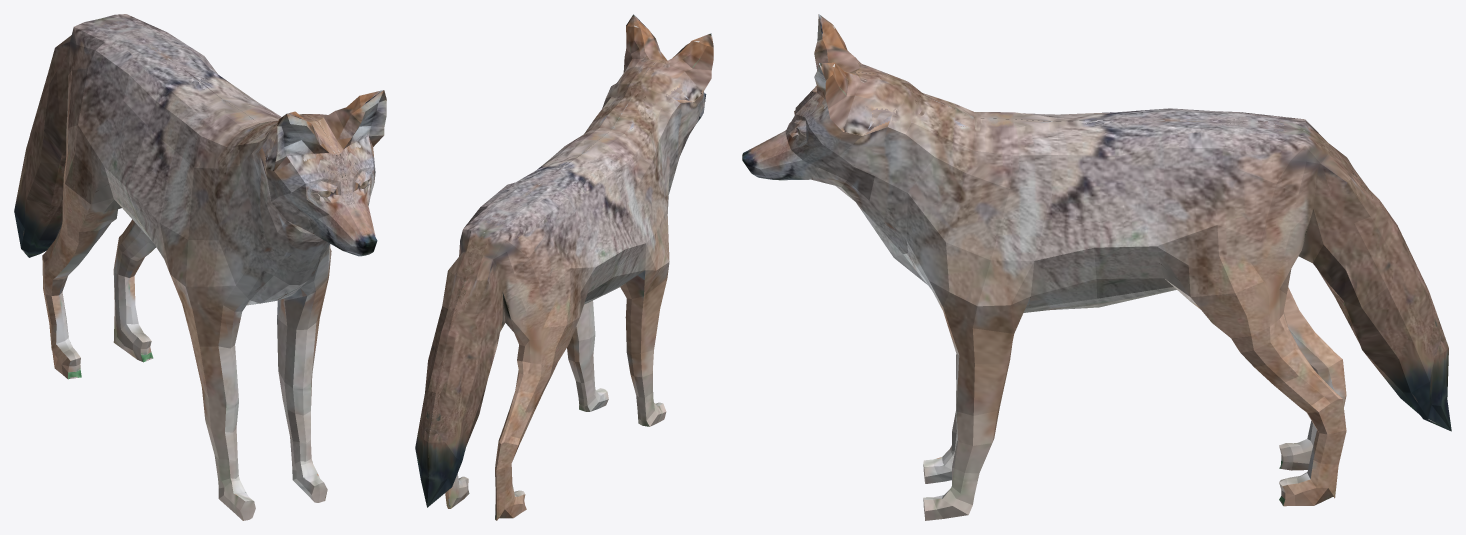
The model's file is coyote.fbx.
3 views of the same model, side by side, from view 1: azimuth 30°, elevation 25°; view 2: azimuth 150°, elevation 25°; view 3: azimuth 270°, elevation 25° (orthographic). The views are drawn at different scales.
Parts seen in each view (by area): view 1: Plane; view 2: Plane; view 3: Plane.
Part boxes in pixels (x1,y1,x2,y2): Plane: (14, 14, 386, 520); Plane: (415, 14, 713, 520); Plane: (742, 14, 1451, 520).
Size of the model in its own units: 169 by 483 by 672.
Materials: 2 (2 with a texture image).
